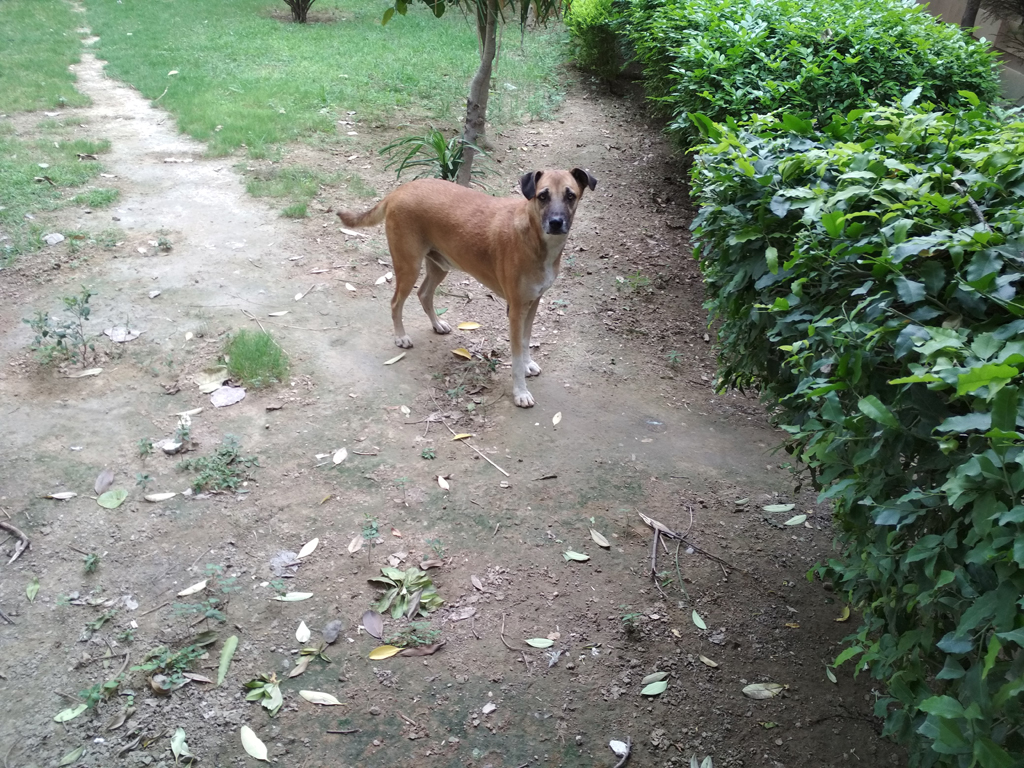dog: (336, 168, 596, 410)
